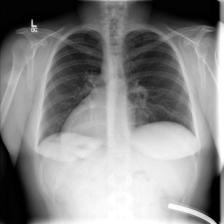normal: (34, 26, 201, 148)
